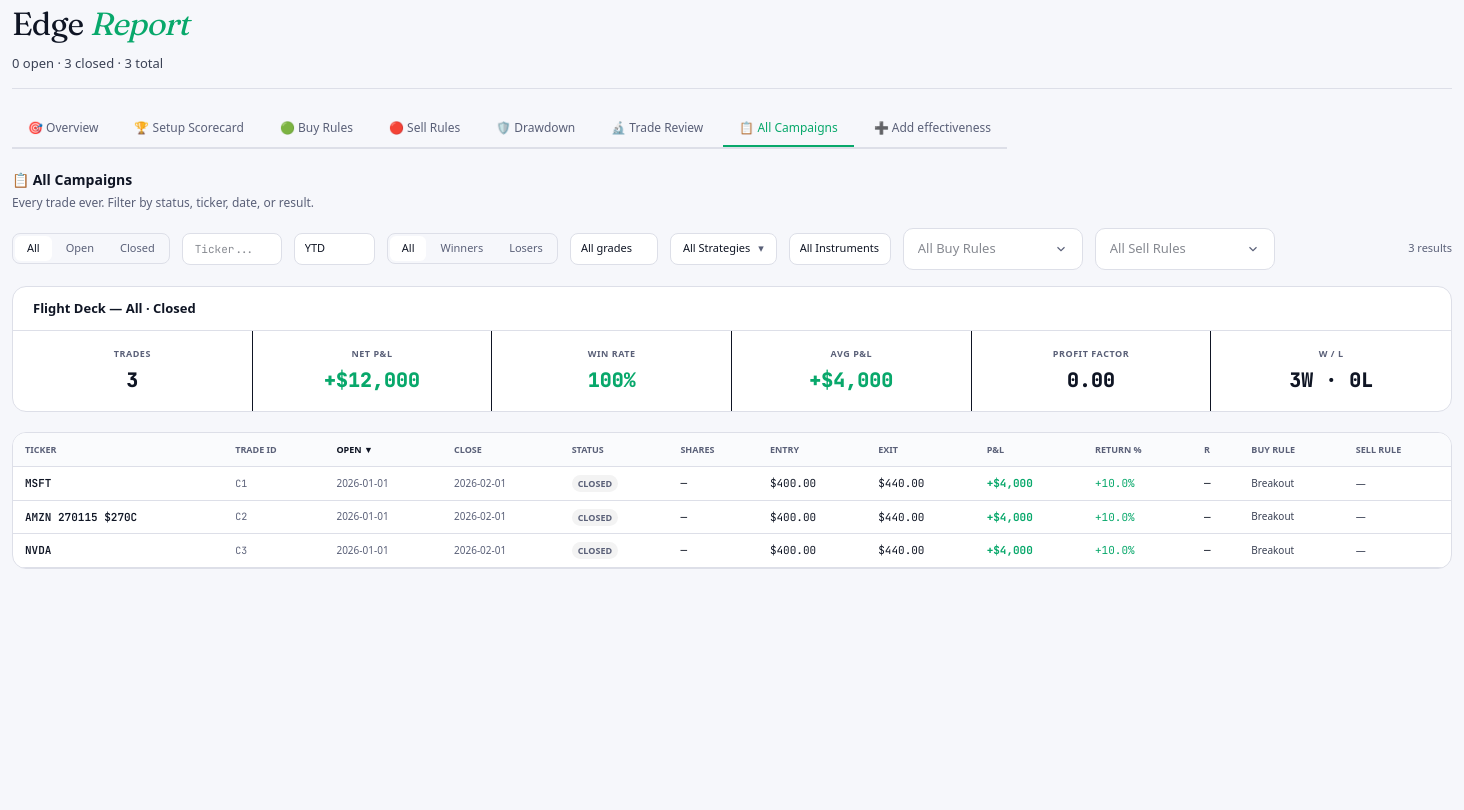
Test case: Analytics — All Campaigns filters › Instrument filter narrows visible rows (STOCK / OPTION)
Expected: the text "MSFT" is shown, 13,466 -> 223,500
Select "Options" in the dropdown with test id "campaigns-instrument-filter" at (840, 248), box 789,232 -> 891,264
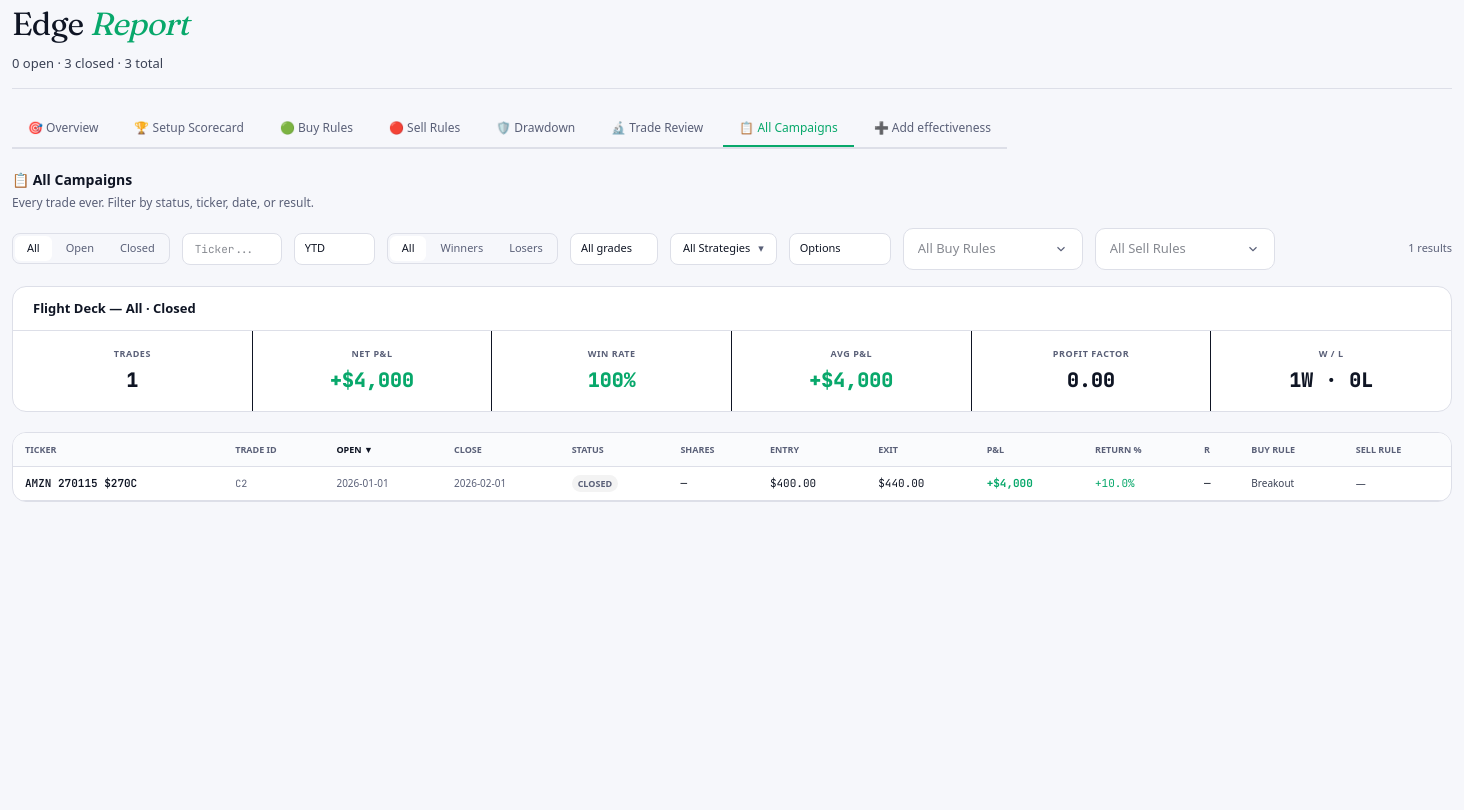
Expected: the text "AMZN 270115 $270C" is shown, 13,466 -> 223,500
Expected: the text "MSFT" is gone
Expected: the text "NVDA" is gone
